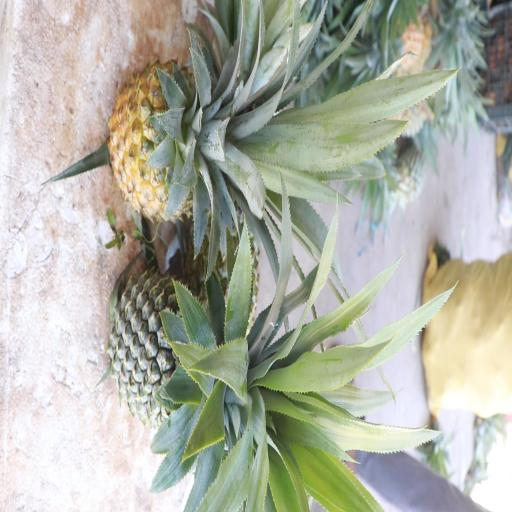Pineapple - v8 v1: (104, 56, 306, 230)
